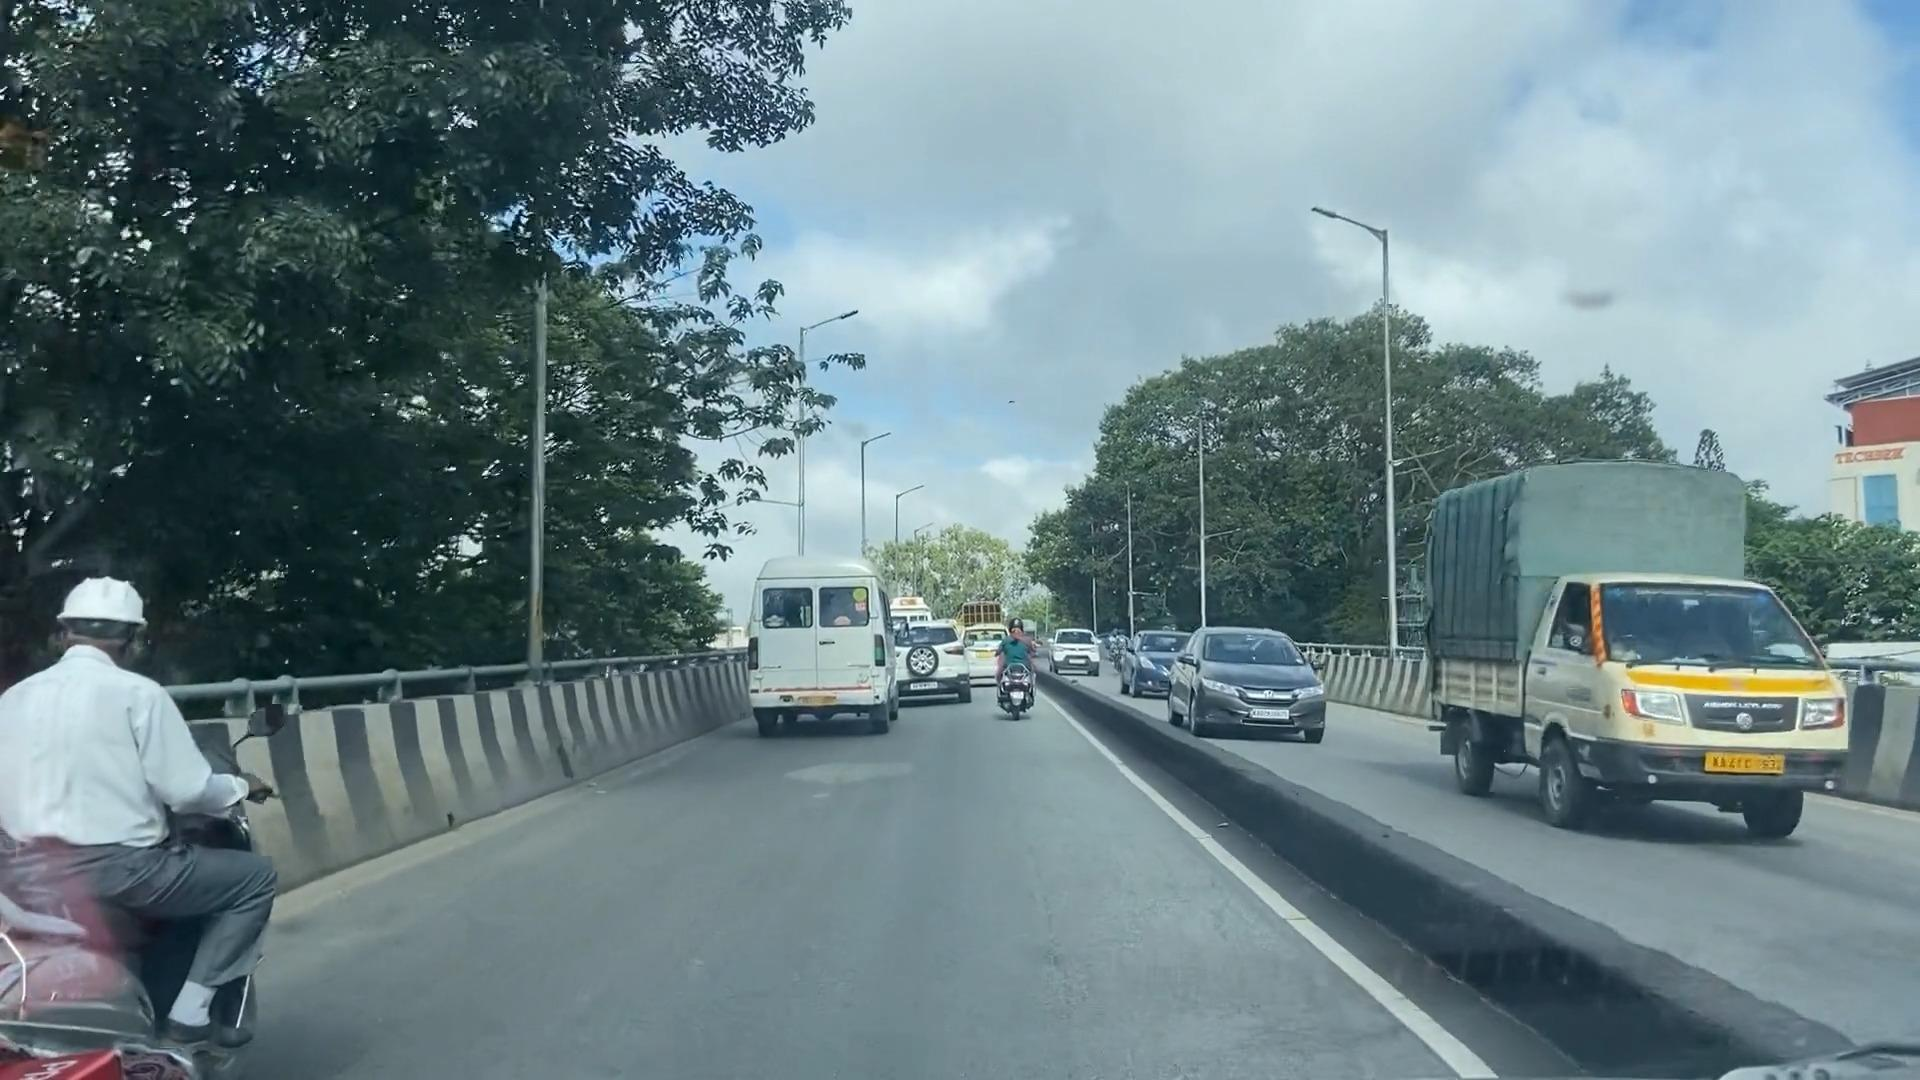HMV: (753, 576, 899, 716)
LMV: (0, 570, 294, 1080), (997, 615, 1030, 720)
RoadDamages: (781, 749, 922, 798)
